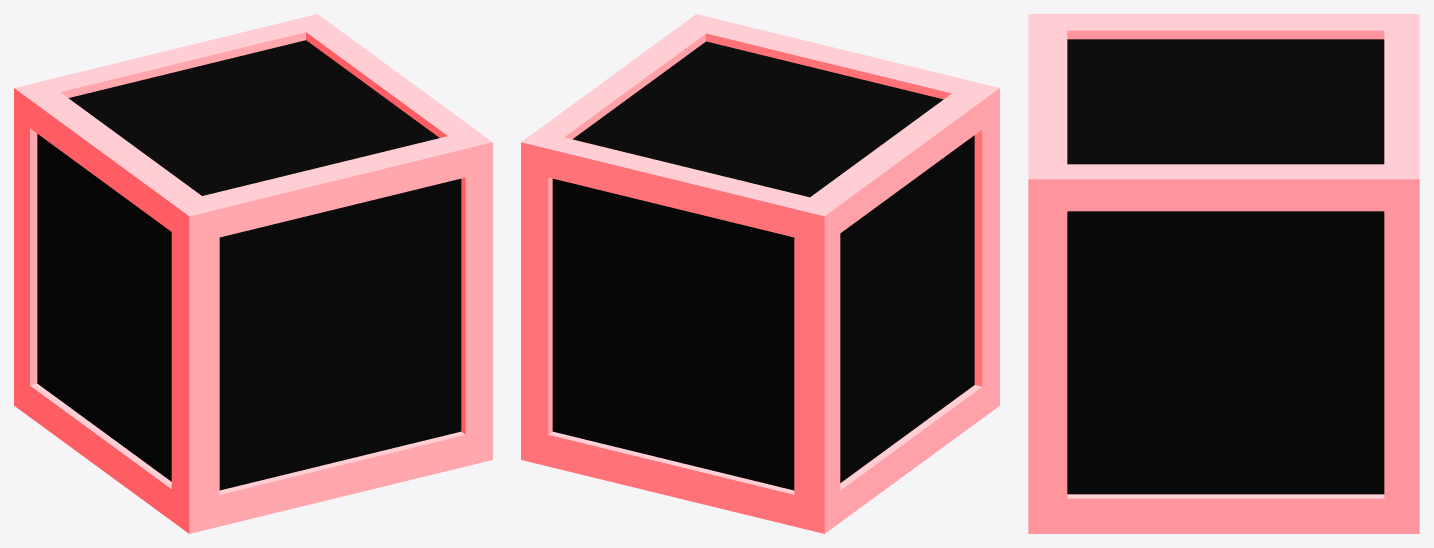
Rendered from Level_2_Boss_Crates.fbx.
3 views of the same model, side by side, from view 1: azimuth 30°, elevation 25°; view 2: azimuth 150°, elevation 25°; view 3: azimuth 270°, elevation 25° (orthographic). The views are drawn at different scales.
Visible parts, largest first — view 1: Cube; view 2: Cube; view 3: Cube.
Boxes of the visible parts, box(x1,y1,x2,y2) form: Cube: box(14, 14, 492, 533); Cube: box(521, 14, 999, 533); Cube: box(1028, 14, 1419, 533).
Bounding box in the file's own units: 200 × 200 × 200.
